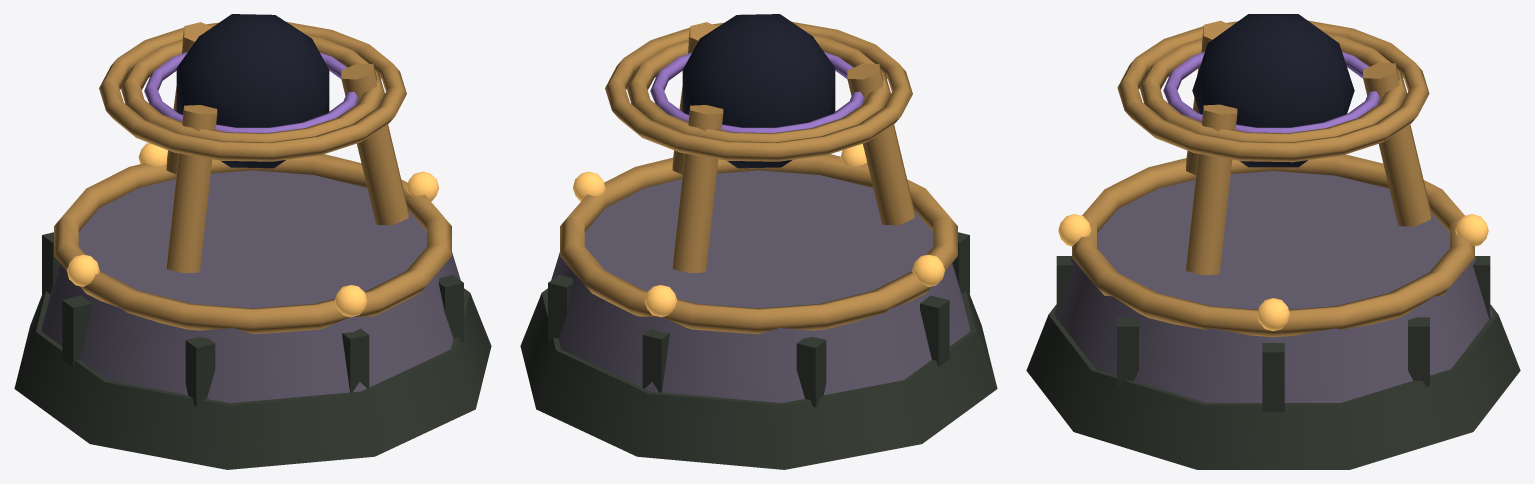
File: tower_gravity_gravityCore.glb
The picture shows the model from 3 angles, left to right: view 1: azimuth 30°, elevation 25°; view 2: azimuth 150°, elevation 25°; view 3: azimuth 270°, elevation 25°; orthographic projection.
Visible parts, largest first — view 1: stone_1, foot_0, rim_2, black_hole_15, orbit_21, orbit_20, claw_18, claw_17, accretion_19, mortar_6, mortar_7, mortar_5 (+7 smaller); view 2: stone_1, foot_0, rim_2, black_hole_15, orbit_21, orbit_20, claw_16, claw_18, accretion_19, mortar_8, mortar_7, mortar_9 (+6 smaller); view 3: stone_1, foot_0, rim_2, black_hole_15, orbit_21, orbit_20, claw_17, claw_16, accretion_19, mortar_3, mortar_4, mortar_10 (+6 smaller).
Part boxes in pixels (left/top/right/bottom): stone_1: left=41, top=170, right=464, bottom=403; foot_0: left=14, top=288, right=491, bottom=469; rim_2: left=54, top=154, right=451, bottom=334; black_hole_15: left=176, top=14, right=329, bottom=168; orbit_21: left=99, top=22, right=406, bottom=161; orbit_20: left=121, top=35, right=384, bottom=142; claw_18: left=166, top=105, right=217, bottom=273; claw_17: left=341, top=63, right=408, bottom=225; accretion_19: left=144, top=52, right=358, bottom=133; mortar_6: left=185, top=337, right=215, bottom=407; mortar_7: left=62, top=295, right=91, bottom=367; mortar_5: left=342, top=328, right=369, bottom=392; stone_1: left=547, top=170, right=970, bottom=403; foot_0: left=520, top=288, right=997, bottom=469; rim_2: left=560, top=154, right=957, bottom=334; black_hole_15: left=682, top=14, right=835, bottom=168; orbit_21: left=605, top=22, right=912, bottom=161; orbit_20: left=627, top=35, right=890, bottom=142; claw_16: left=672, top=105, right=723, bottom=273; claw_18: left=847, top=63, right=914, bottom=225; accretion_19: left=650, top=52, right=864, bottom=133; mortar_8: left=796, top=337, right=826, bottom=407; mortar_7: left=920, top=295, right=949, bottom=367; mortar_9: left=642, top=328, right=669, bottom=392; stone_1: left=1054, top=171, right=1492, bottom=402; foot_0: left=1026, top=304, right=1520, bottom=469; rim_2: left=1072, top=154, right=1474, bottom=337; black_hole_15: left=1192, top=14, right=1354, bottom=167; orbit_21: left=1117, top=20, right=1429, bottom=162; orbit_20: left=1139, top=33, right=1407, bottom=142; claw_17: left=1186, top=104, right=1237, bottom=275; claw_16: left=1363, top=62, right=1430, bottom=226; accretion_19: left=1163, top=51, right=1380, bottom=133; mortar_3: left=1262, top=343, right=1284, bottom=412; mortar_4: left=1117, top=317, right=1138, bottom=386; mortar_10: left=1408, top=317, right=1429, bottom=386.
Size of the model in its own units: 0.5326 by 0.442 by 0.56.
